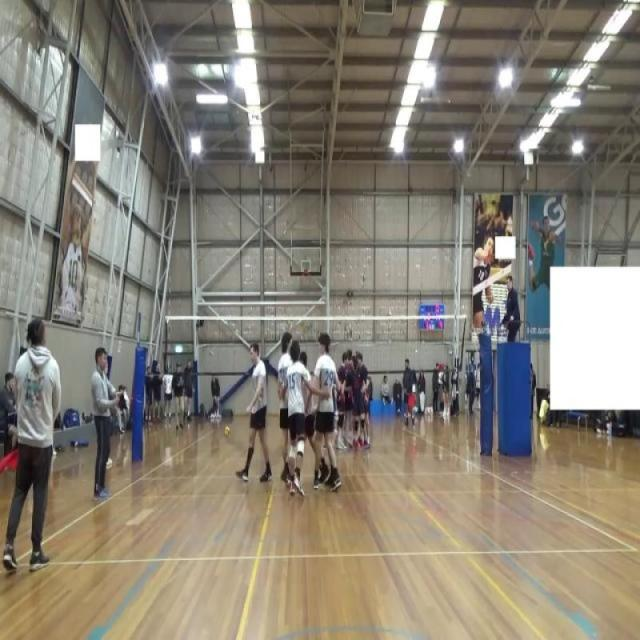volleyball: (222, 424, 232, 440)
